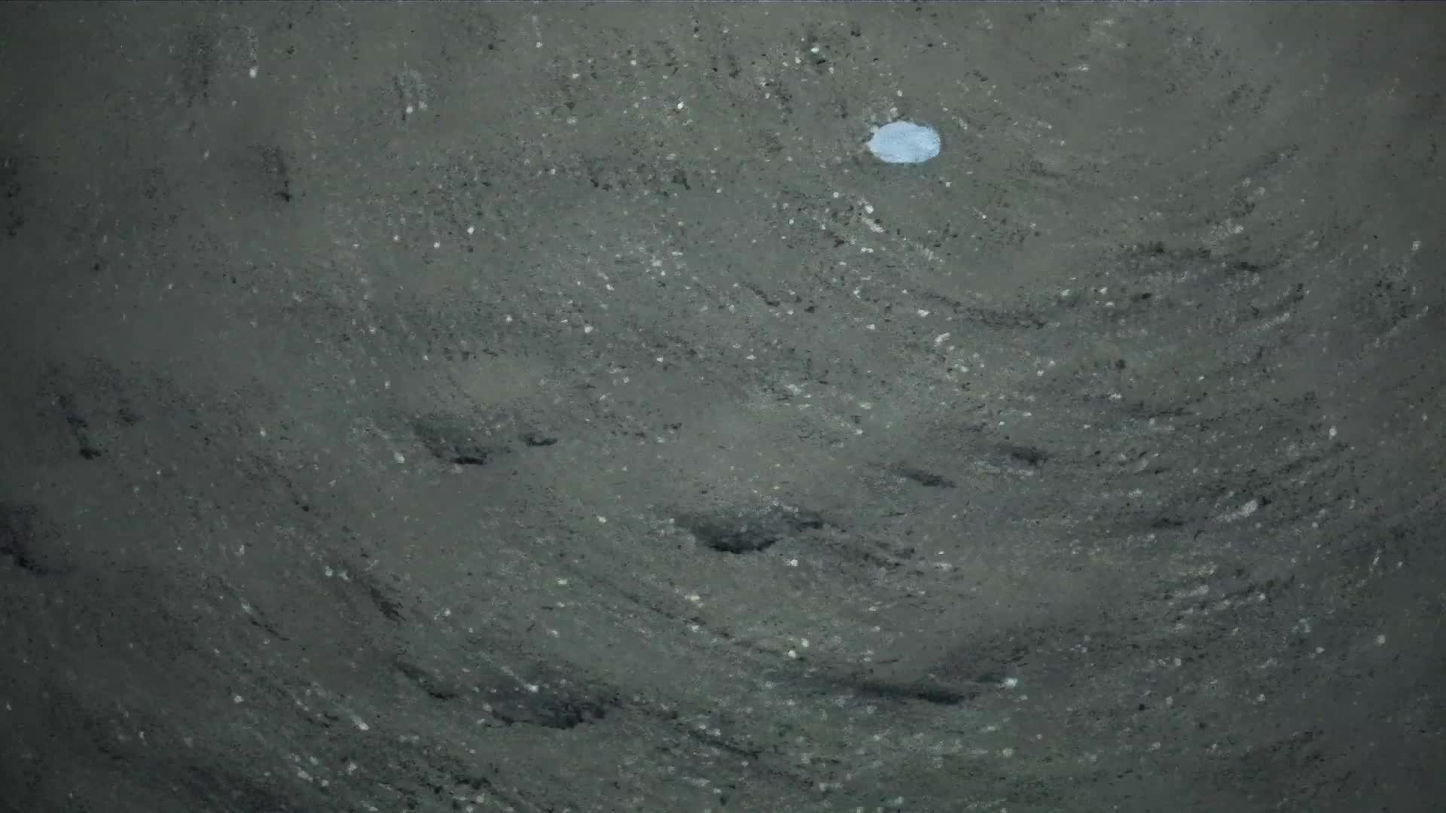Target: (862, 114, 949, 170)
